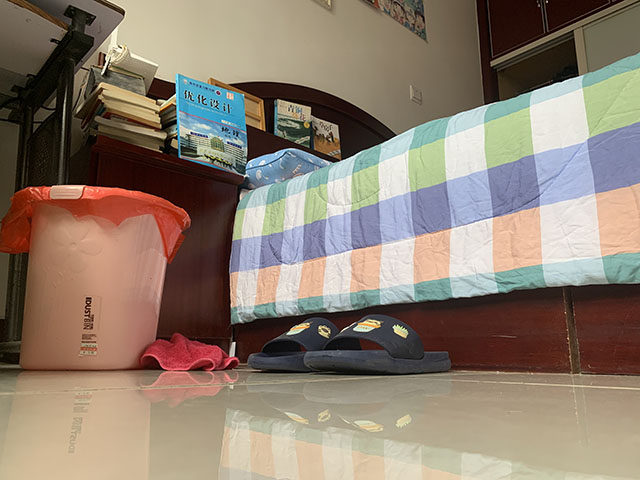bed: (226, 51, 639, 377)
cabinet: (69, 134, 250, 359)
slippers: (299, 315, 453, 376), (263, 317, 337, 372)
trashcan: (1, 183, 193, 372)
